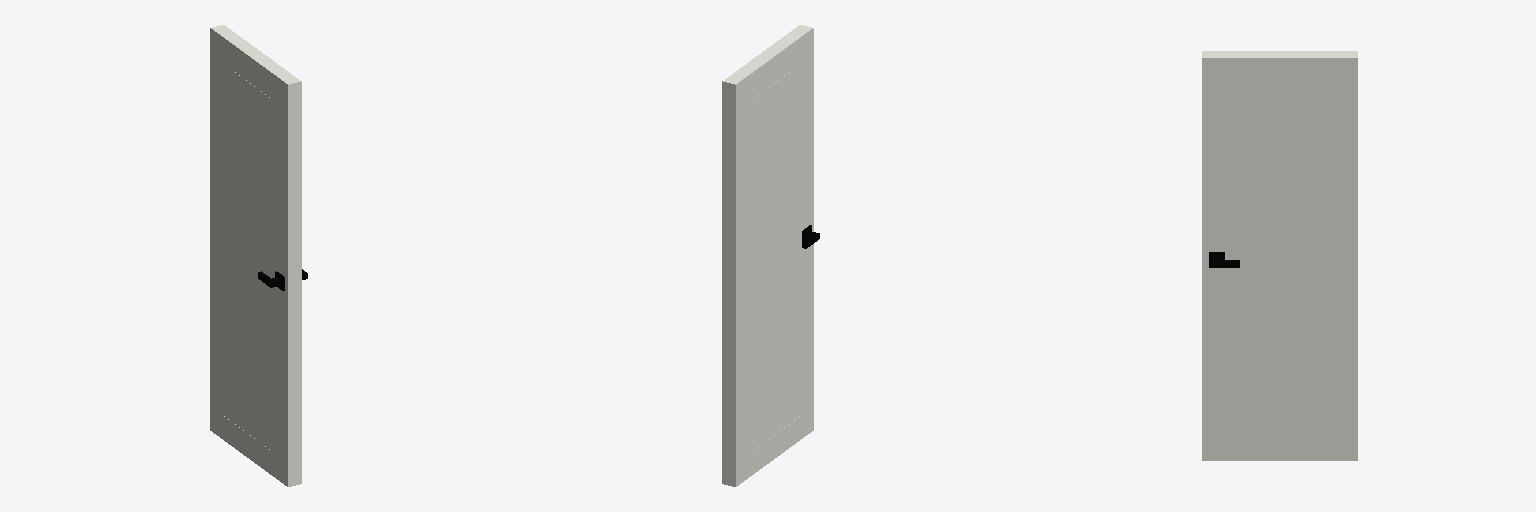
File: door703_lactic.obj
3 renders of one model, left to right at view 1: azimuth 30°, elevation 25°; view 2: azimuth 150°, elevation 25°; view 3: azimuth 270°, elevation 25°, orthographic.
Visible parts, largest first — view 1: Cube; view 2: Cube; view 3: Cube.
Part boxes in pixels (bbox=[...]): Cube: bbox=[210, 25, 307, 486]; Cube: bbox=[722, 25, 819, 486]; Cube: bbox=[1202, 51, 1357, 460].
Bounding box in the file's own units: 0.1899 × 2 × 0.7.